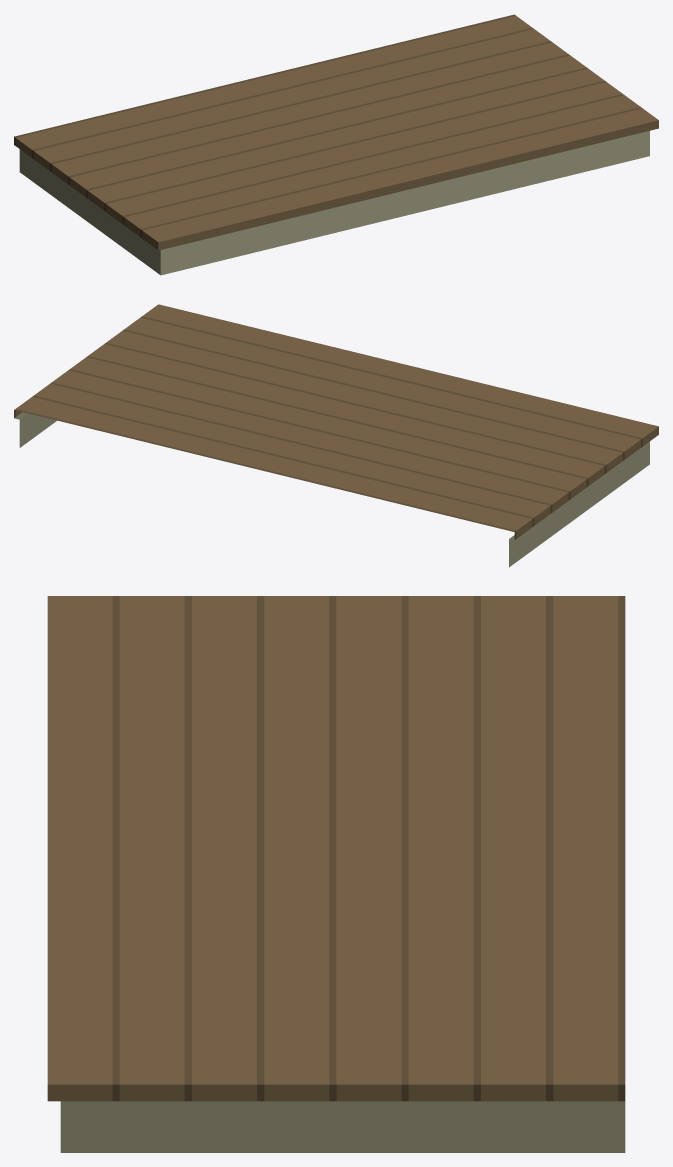
Rendered from AI_Prop_Church_Stage.fbx.
3 views of the same model, one above another, from view 1: azimuth 30°, elevation 25°; view 2: azimuth 150°, elevation 25°; view 3: azimuth 270°, elevation 25° (orthographic). The views are drawn at different scales.
Visible parts, largest first — view 1: AI_Prop_Church_Stage; view 2: AI_Prop_Church_Stage; view 3: AI_Prop_Church_Stage.
Part boxes in pixels (bbox=[...]): AI_Prop_Church_Stage: bbox=[14, 14, 658, 275]; AI_Prop_Church_Stage: bbox=[14, 304, 658, 567]; AI_Prop_Church_Stage: bbox=[47, 596, 625, 1152].
Bounding box in the file's own units: 10 × 0.7042 × 5.
